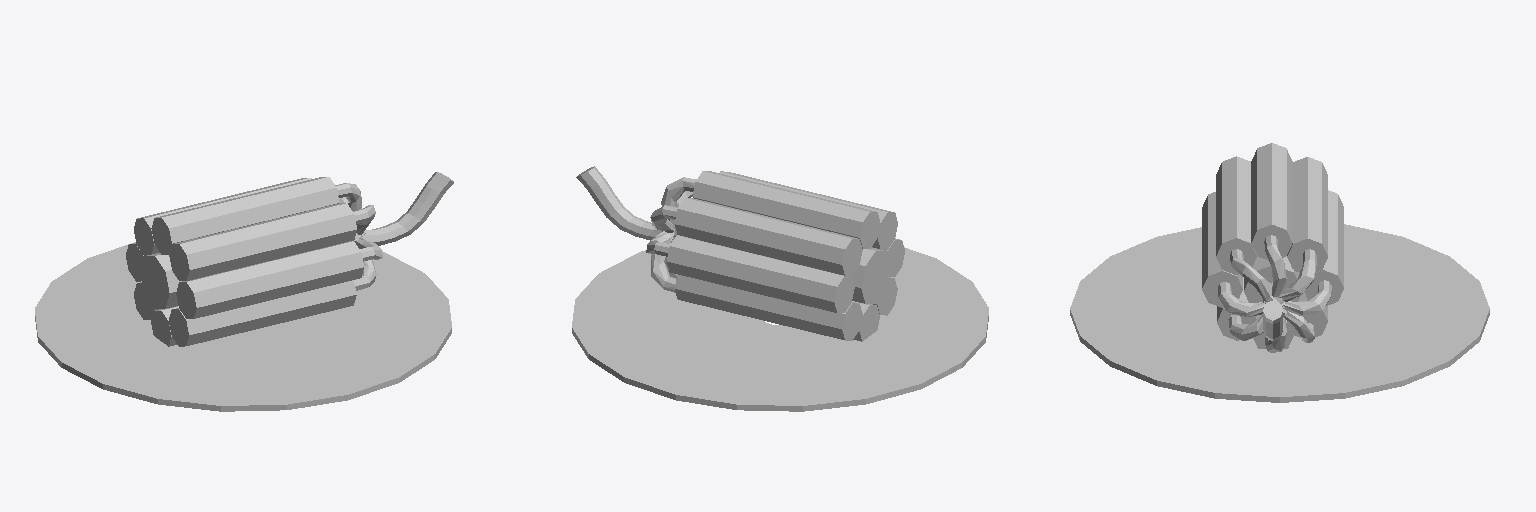
Rendered from bombDisc.obj.
3 views of the same model, side by side, from view 1: azimuth 30°, elevation 25°; view 2: azimuth 150°, elevation 25°; view 3: azimuth 270°, elevation 25° (orthographic).
Parts seen in each view (by area): view 1: Circle.001_Circle.003; view 2: Circle.001_Circle.003; view 3: Circle.001_Circle.003.
Part boxes in pixels (x1,y1,x2,y2): Circle.001_Circle.003: (35, 172, 453, 411); Circle.001_Circle.003: (572, 166, 988, 411); Circle.001_Circle.003: (1070, 143, 1489, 402).
Size of the model in its own units: 1.01 by 0.3248 by 0.947.